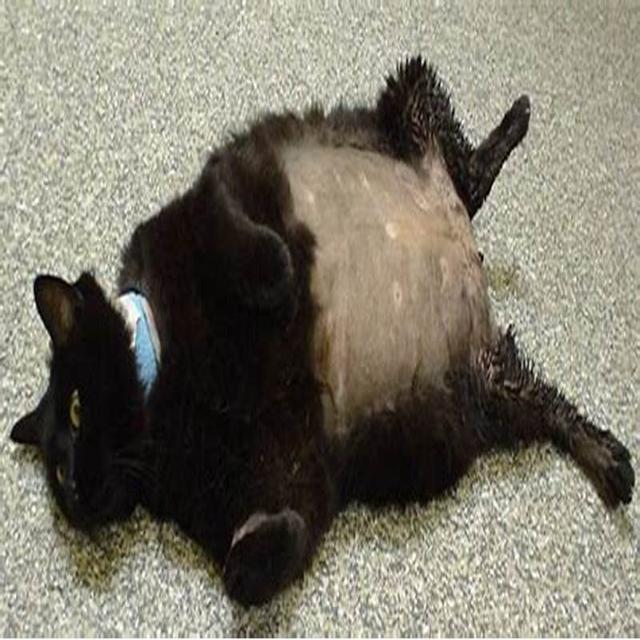hairloss: (283, 148, 484, 373)
